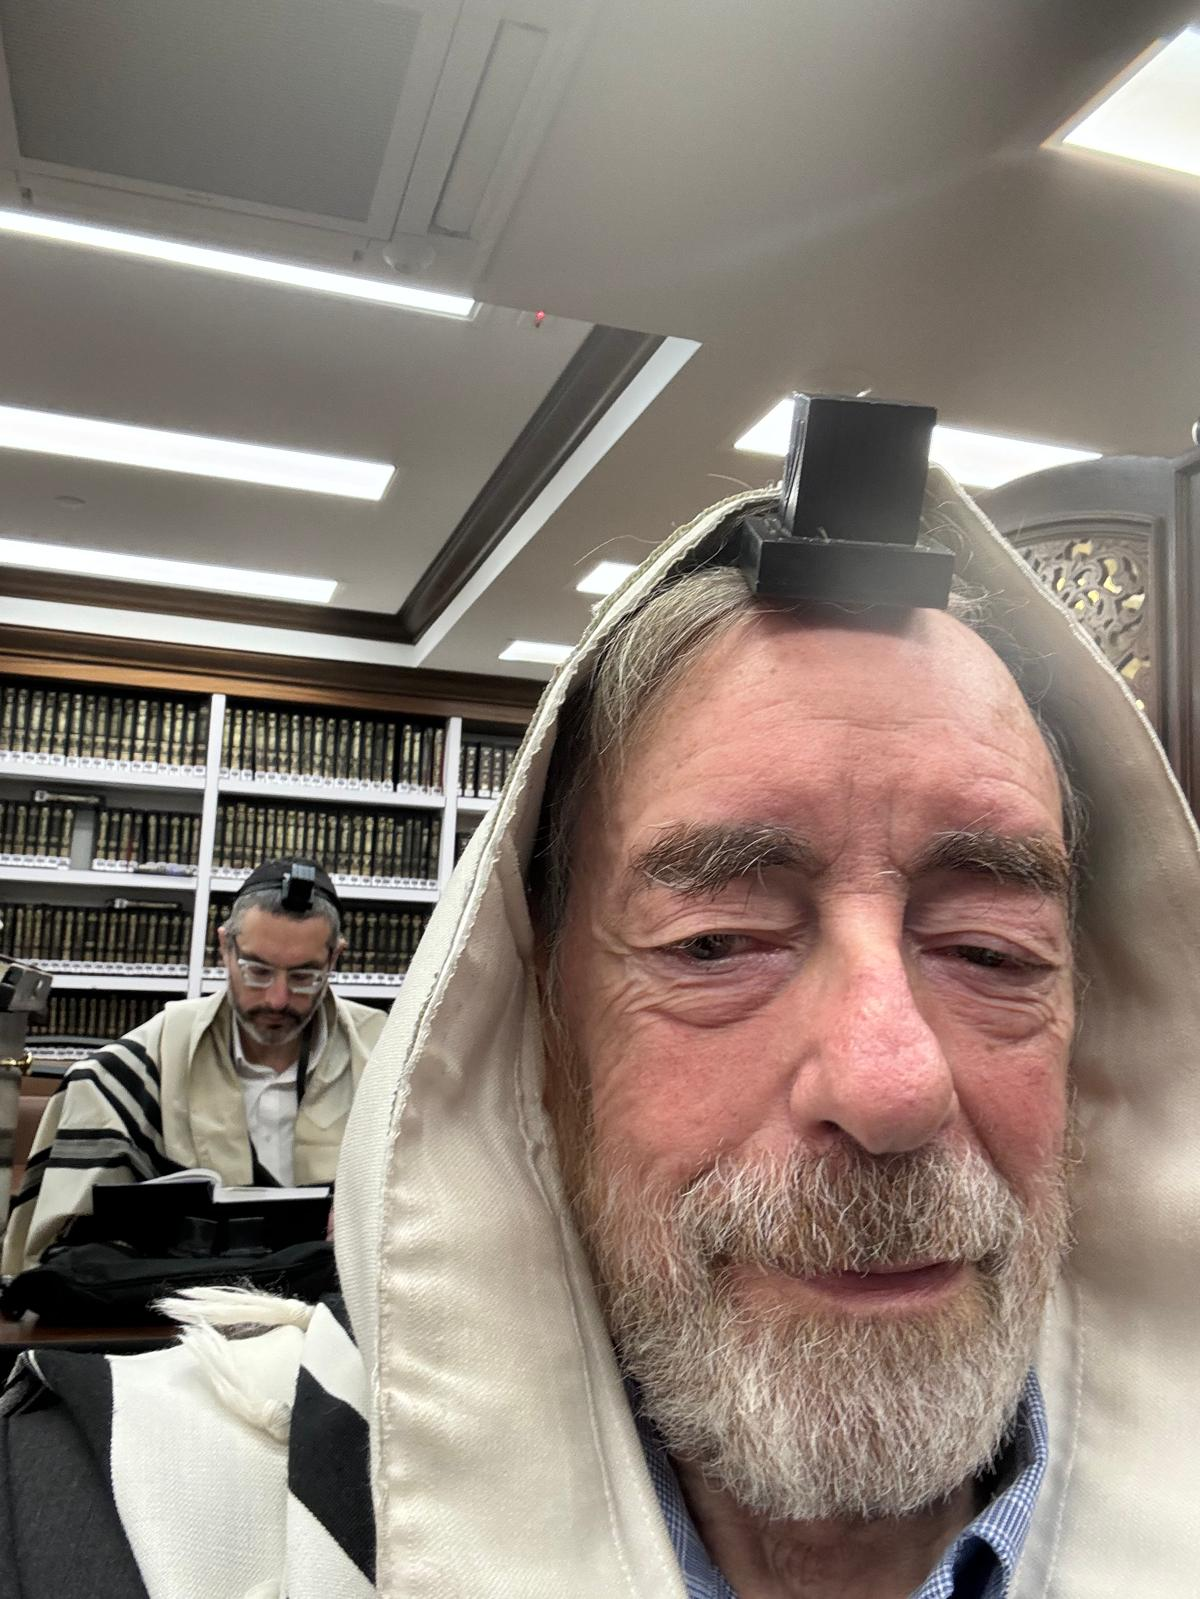tefillin: (745, 391, 954, 605), (281, 863, 316, 908)
